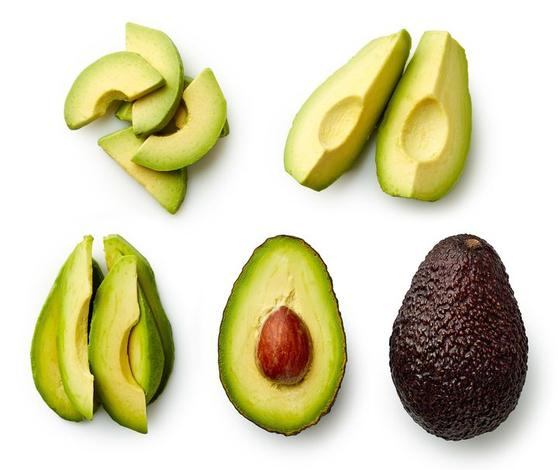avocado: (386, 230, 530, 441)
